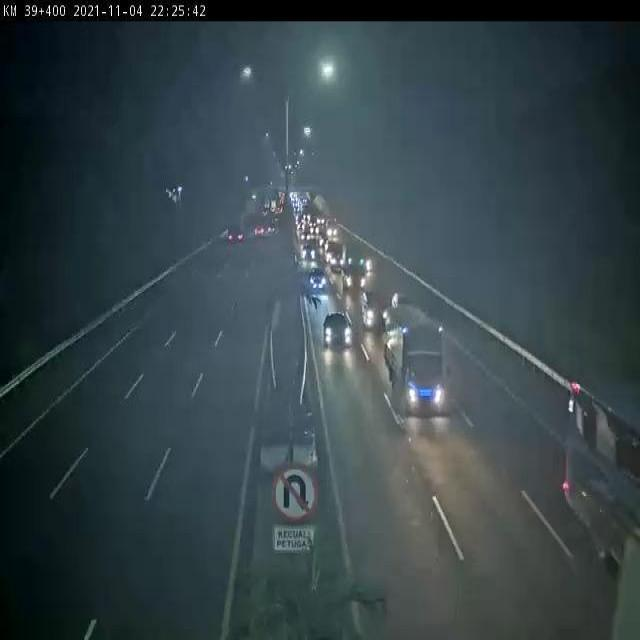car: (319, 305, 355, 351), (358, 288, 389, 331), (339, 253, 367, 287), (308, 261, 329, 291)
truck: (564, 371, 640, 576), (381, 309, 450, 420)
